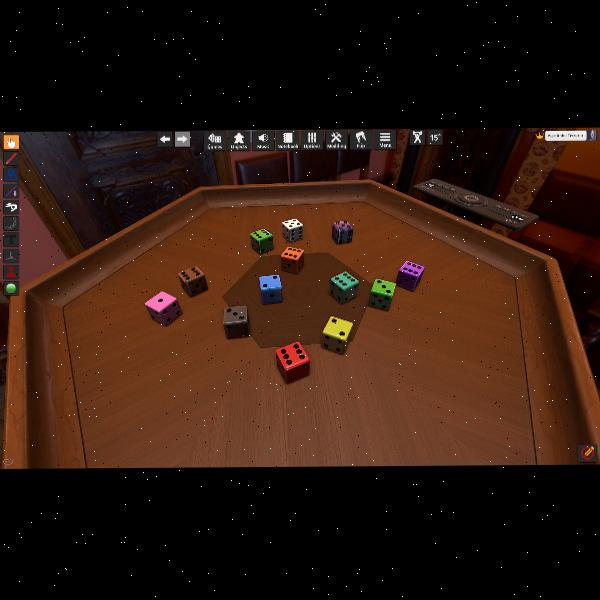d6: (274, 342, 310, 383), (145, 290, 181, 325), (322, 315, 352, 354), (330, 271, 358, 304), (222, 304, 248, 338), (178, 265, 206, 296), (368, 279, 394, 310), (396, 260, 421, 292), (250, 227, 274, 255), (260, 274, 282, 304), (281, 246, 305, 273), (282, 218, 304, 243), (332, 220, 352, 245)
